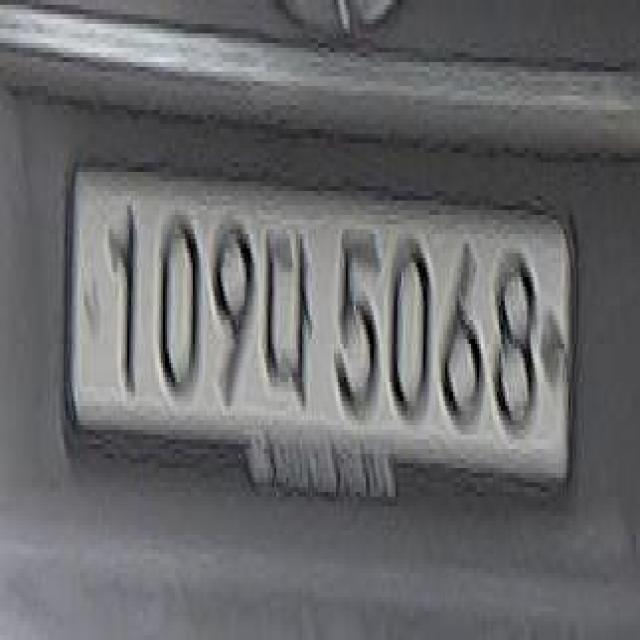illegal_plate: (65, 155, 571, 511)
